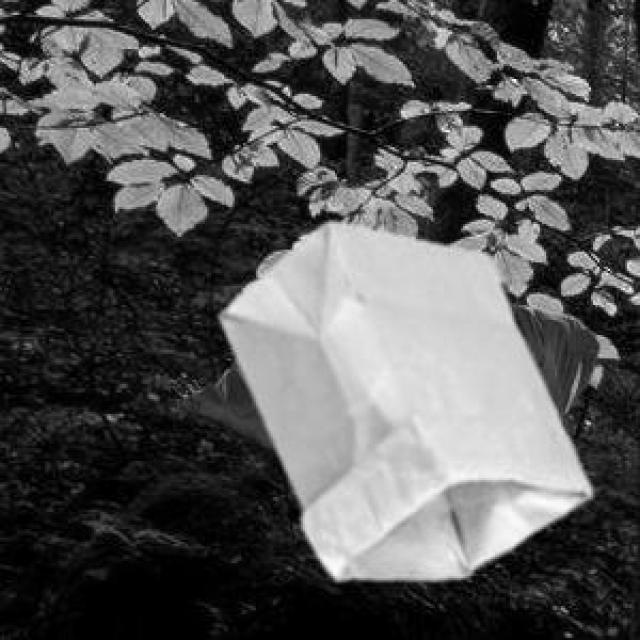miscellaneous trash: (505, 301, 595, 420), (175, 356, 277, 457)
paper: (218, 218, 587, 576)
